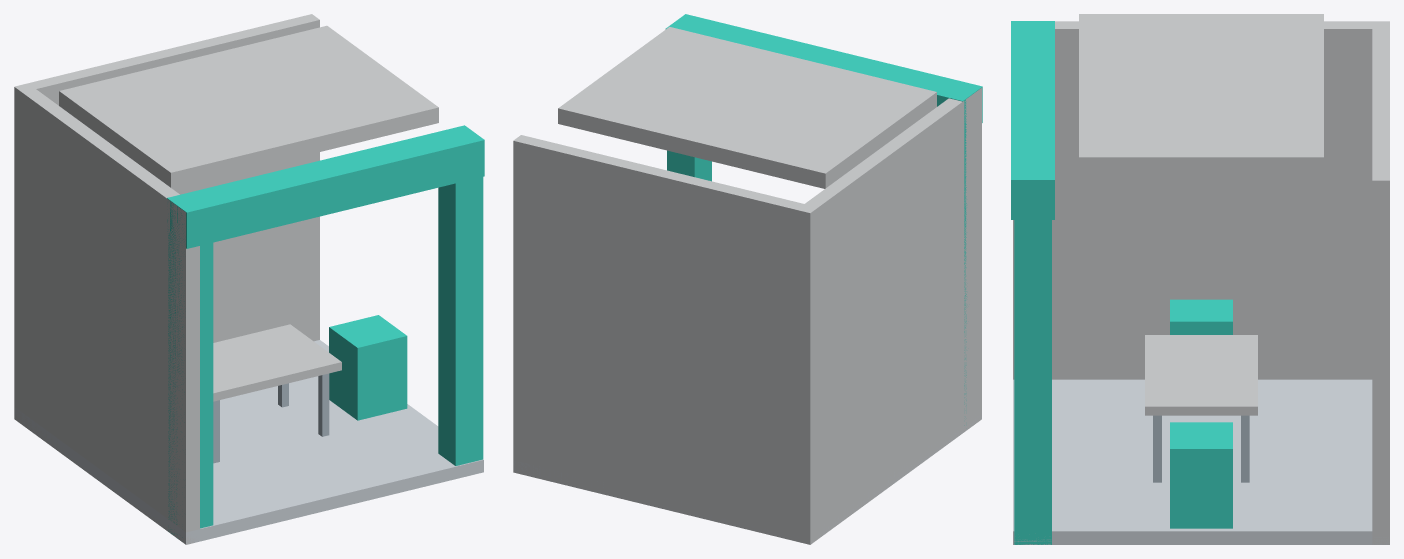
3 renders of one model, left to right at view 1: azimuth 30°, elevation 25°; view 2: azimuth 150°, elevation 25°; view 3: azimuth 270°, elevation 25°, orthographic. The views are drawn at different scales.
Parts seen in each view (by area): view 1: Exhibition Booth Concept; view 2: Exhibition Booth Concept; view 3: Exhibition Booth Concept.
Boxes of the visible parts, x1=… form: Exhibition Booth Concept: x1=14, y1=14, x2=484, y2=544; Exhibition Booth Concept: x1=513, y1=14, x2=982, y2=544; Exhibition Booth Concept: x1=1011, y1=14, x2=1389, y2=544.
Bounding box in the file's own units: 3 × 3.34 × 3.01.
